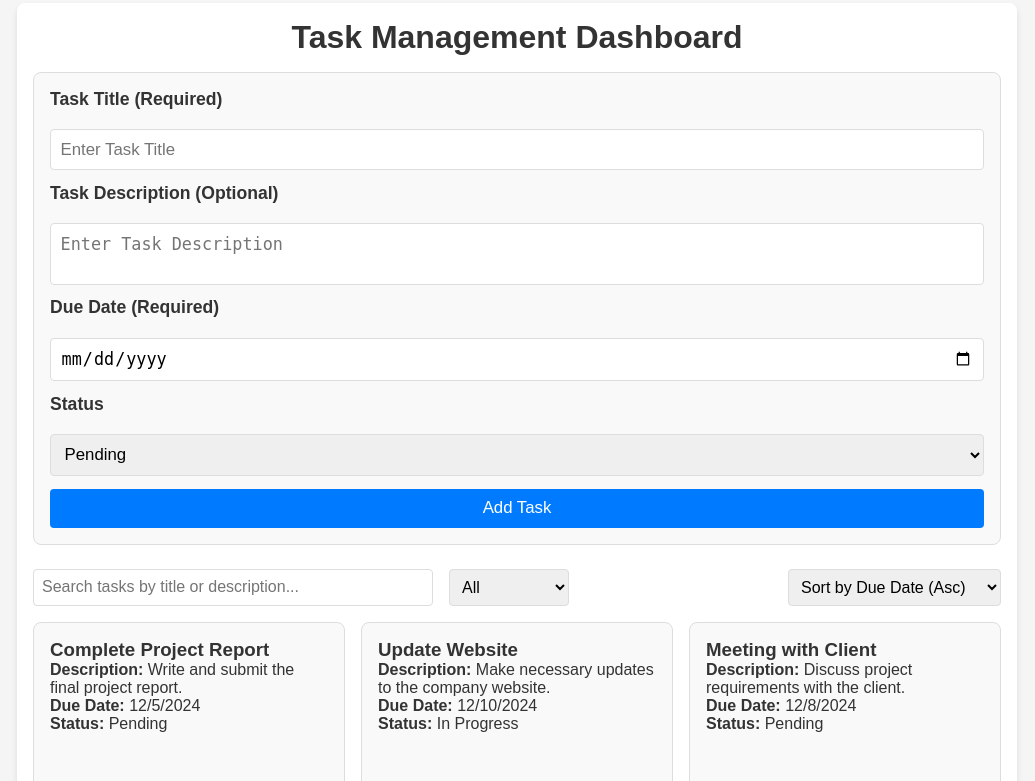
Test: App Component › searches tasks by title and description
Type "Client" into the field with placeholder "Search tasks by title or description..." at (233, 587), box [33,569,433,606]
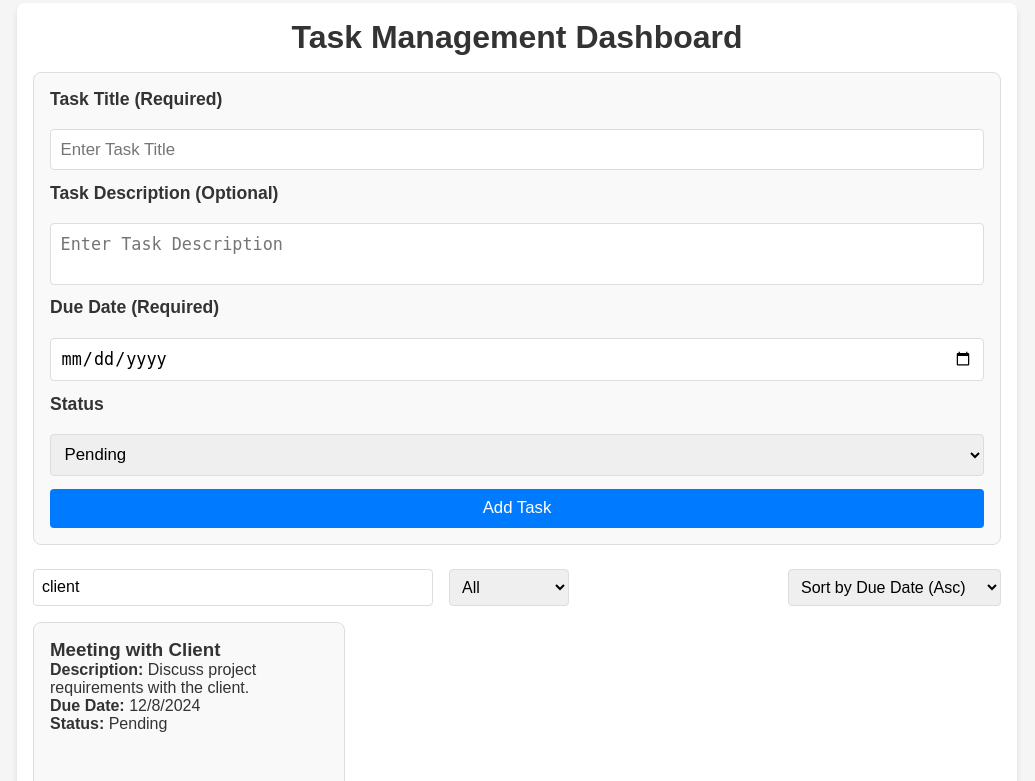
expect the heading "Meeting with Client" is shown: met, box [50,639,220,660]
expect the heading "Complete Project Report" is gone: met
